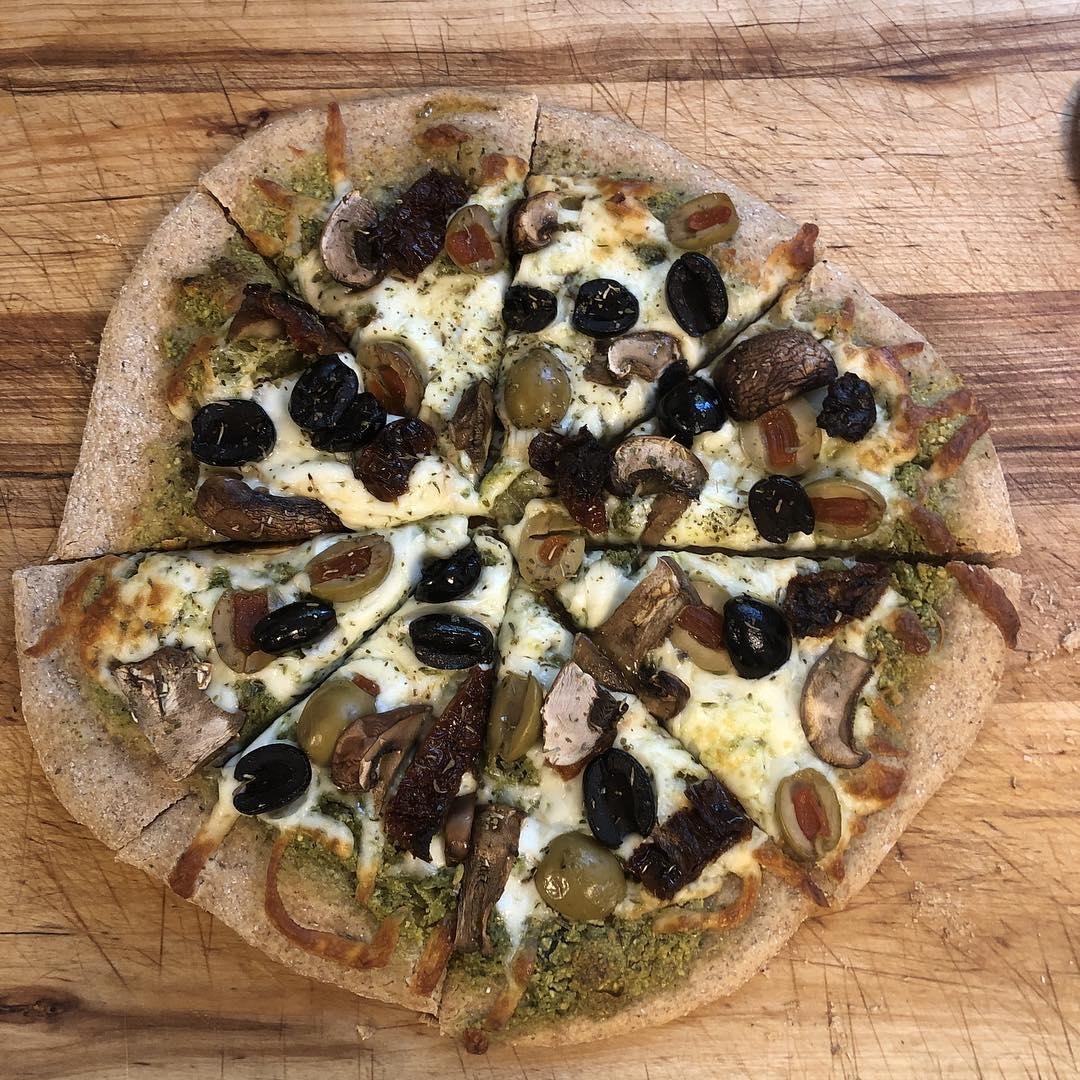Mushroom: (562, 560, 691, 692), (440, 797, 527, 948), (798, 642, 896, 765), (330, 701, 436, 792), (193, 473, 350, 533), (725, 334, 838, 416), (235, 285, 348, 354), (610, 434, 710, 500), (319, 186, 385, 284), (201, 591, 272, 673), (608, 335, 689, 380)
Olives: (289, 677, 381, 771), (290, 358, 385, 448), (542, 835, 635, 921), (581, 746, 659, 844), (772, 764, 850, 862), (498, 346, 575, 426), (528, 430, 605, 509), (190, 397, 275, 465), (390, 170, 450, 265), (514, 513, 587, 590), (362, 418, 434, 496), (361, 333, 431, 413), (815, 474, 898, 540), (303, 534, 394, 593), (665, 251, 729, 334), (722, 595, 790, 673), (437, 201, 506, 276), (409, 612, 497, 670), (255, 593, 335, 655), (236, 746, 312, 811), (654, 364, 723, 433), (666, 193, 745, 250), (667, 599, 723, 676), (748, 476, 814, 537), (492, 677, 541, 757), (570, 280, 639, 335), (417, 544, 482, 598), (818, 375, 876, 435), (501, 282, 557, 332)
Pizza: (11, 93, 1029, 1051)
